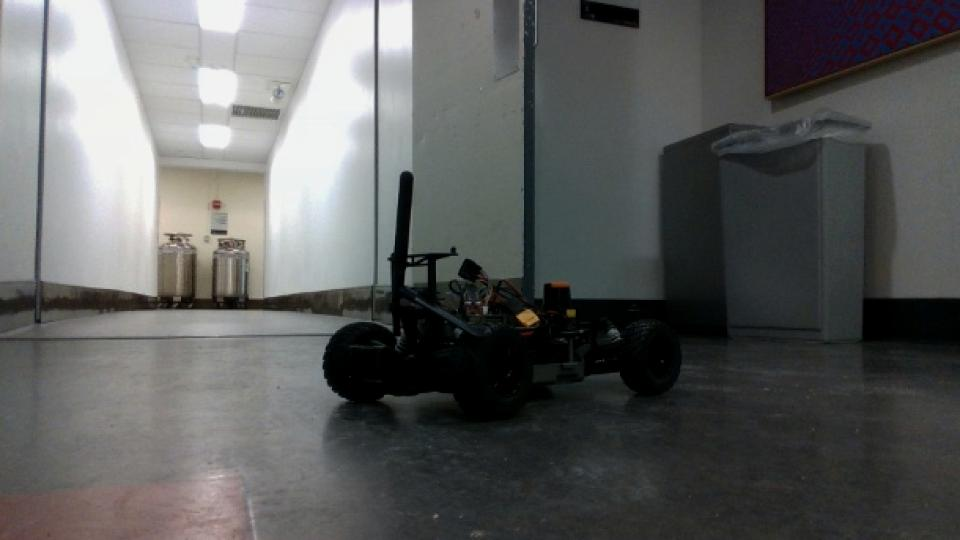car: (321, 169, 686, 422)
